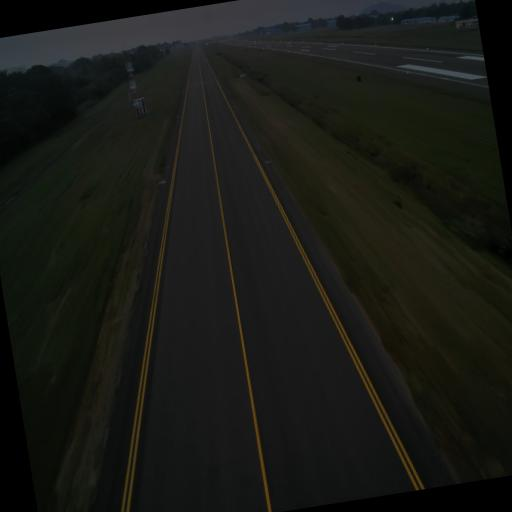on: (162, 176, 166, 184)
